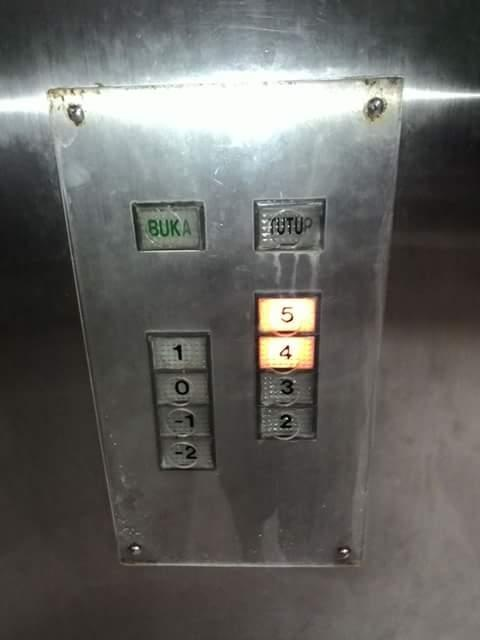-1: (153, 402, 216, 437)
-2: (155, 432, 219, 474)
0: (150, 367, 213, 406)
1: (147, 332, 210, 372)
2: (254, 401, 320, 442)
3: (254, 366, 319, 404)
4: (253, 331, 320, 370)
5: (254, 290, 321, 334)
text: (131, 202, 205, 253), (253, 199, 325, 250)
